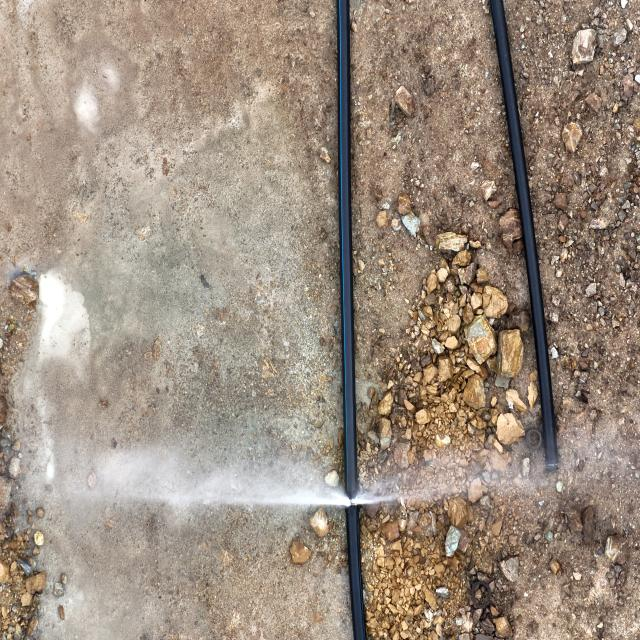leak: (115, 446, 570, 509)
